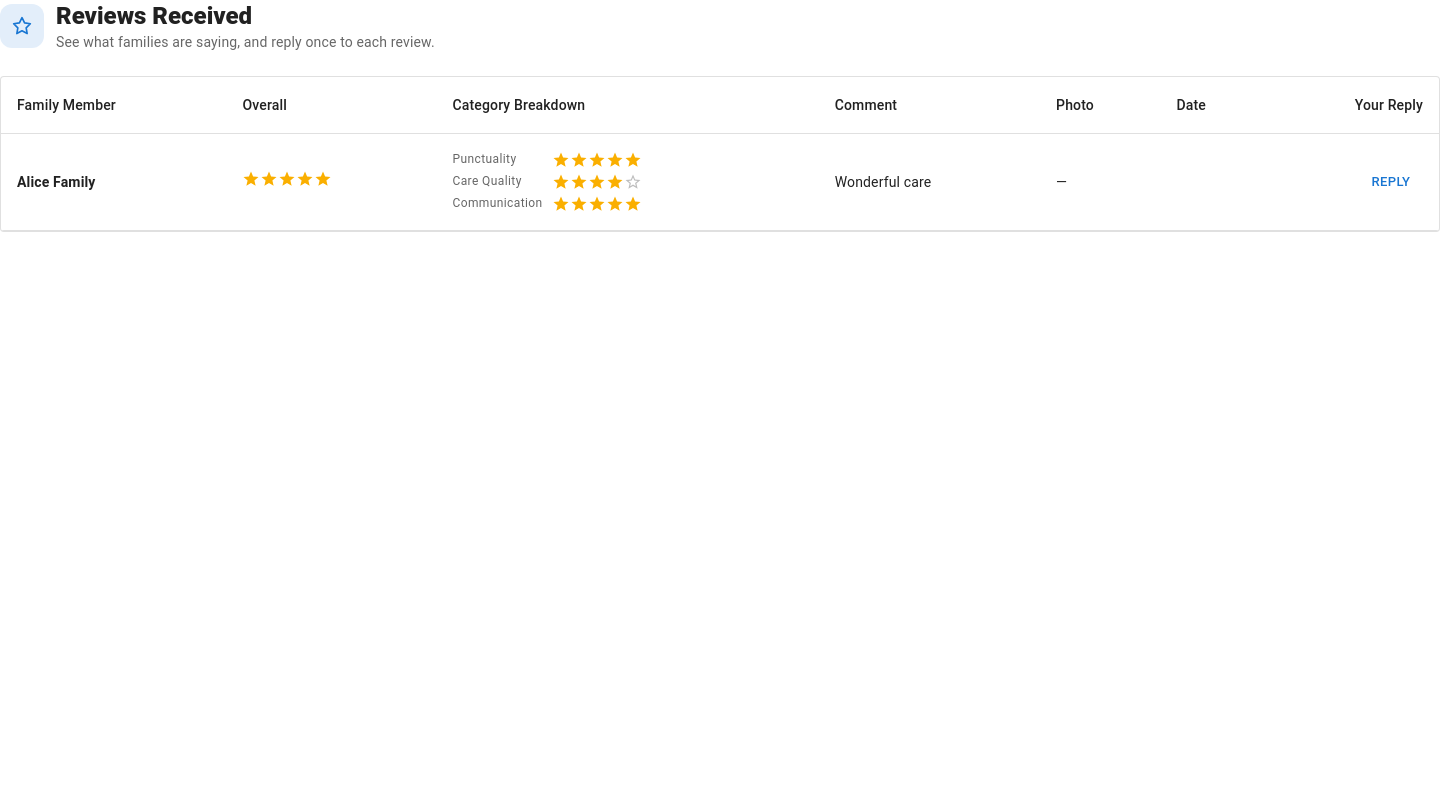
Caretaker Reviews.page › offers a Reply button for a review with no reply yet, and posts the reply
The image size is (1440, 810).
Click the button "Reply" at (1391, 182), box [1359,166,1423,197]
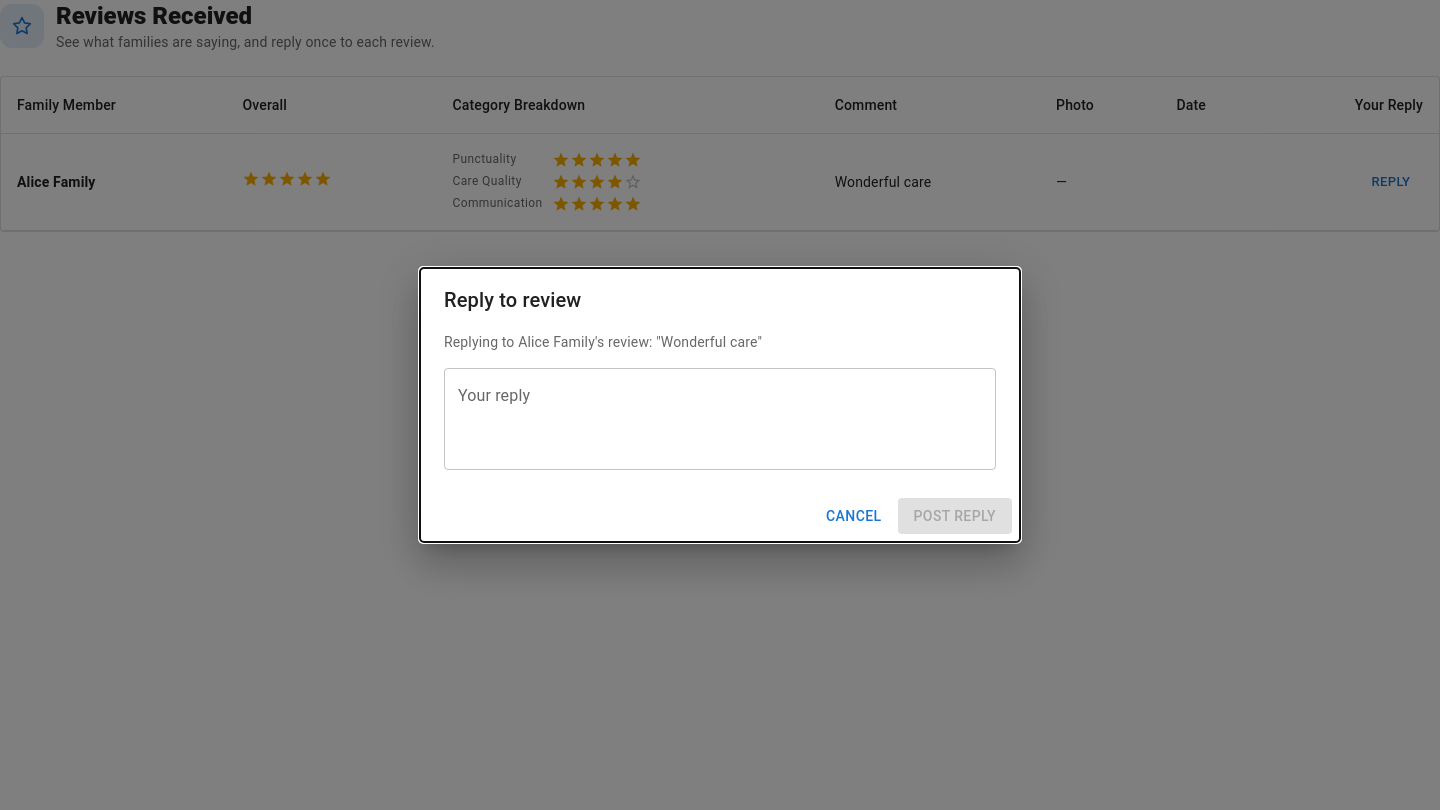
Check: the heading "Reply to review" is shown, box [444,288,581,312]
Type "Thanks for the kind words!" into the text box labelled "Your reply" at (720, 419), box [458,384,982,453]
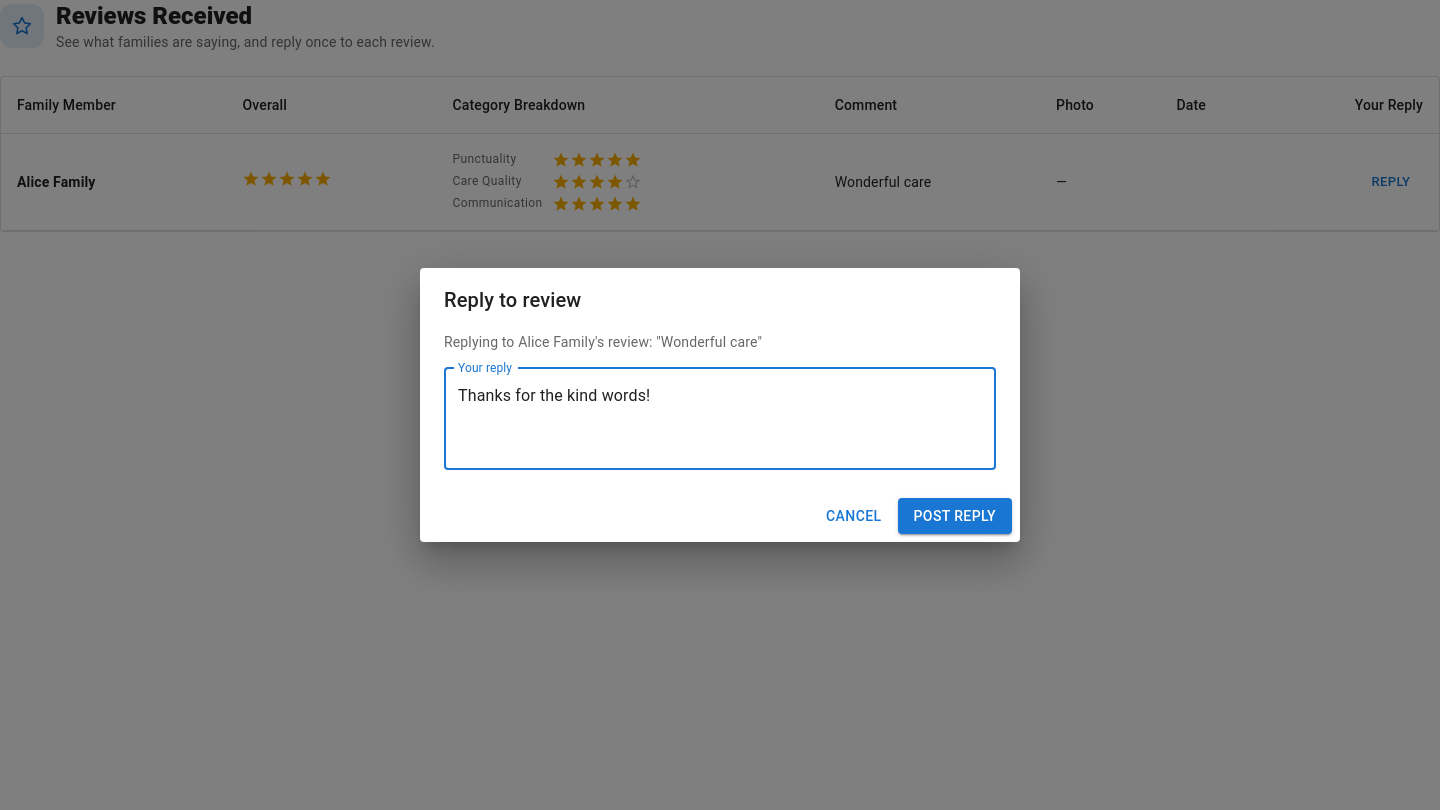
Click the button "Post Reply" at (955, 516), box [898,498,1012,534]
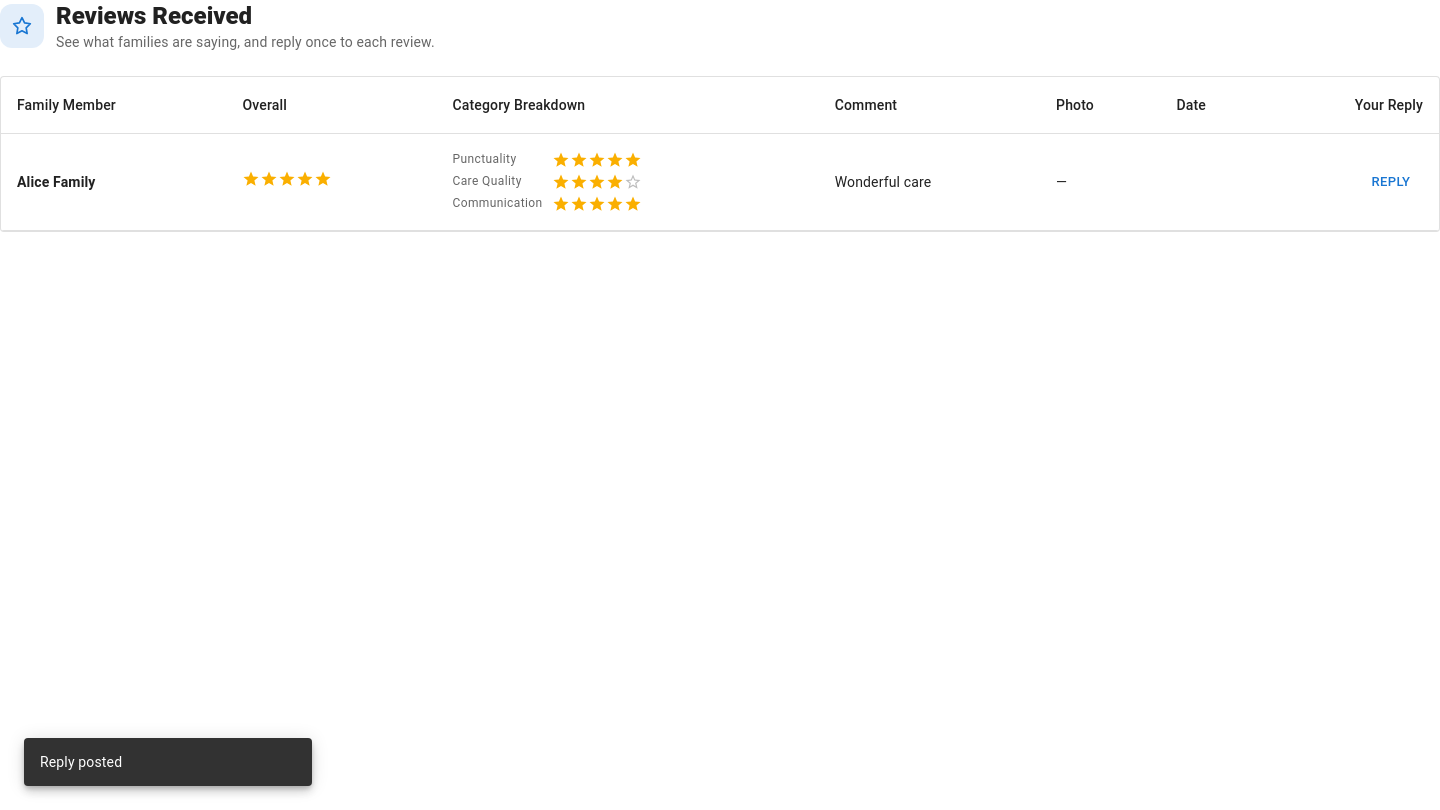
Check: the text "Reply posted" is shown, box [40,754,122,770]
